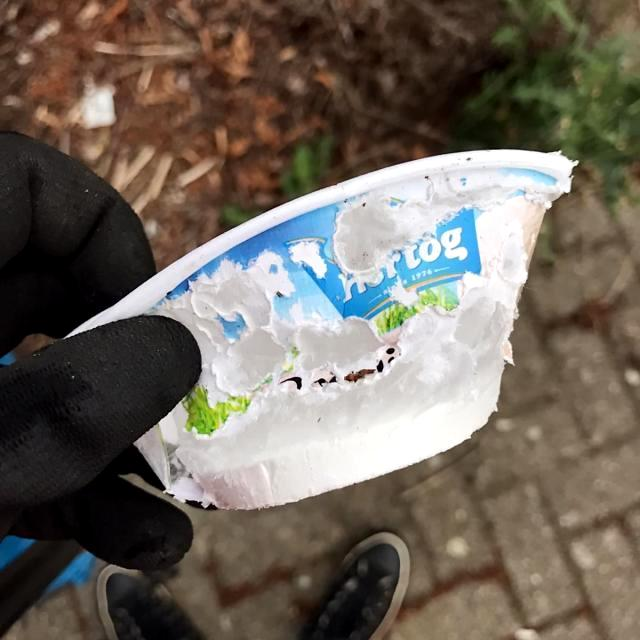Paper: (61, 140, 579, 518)
